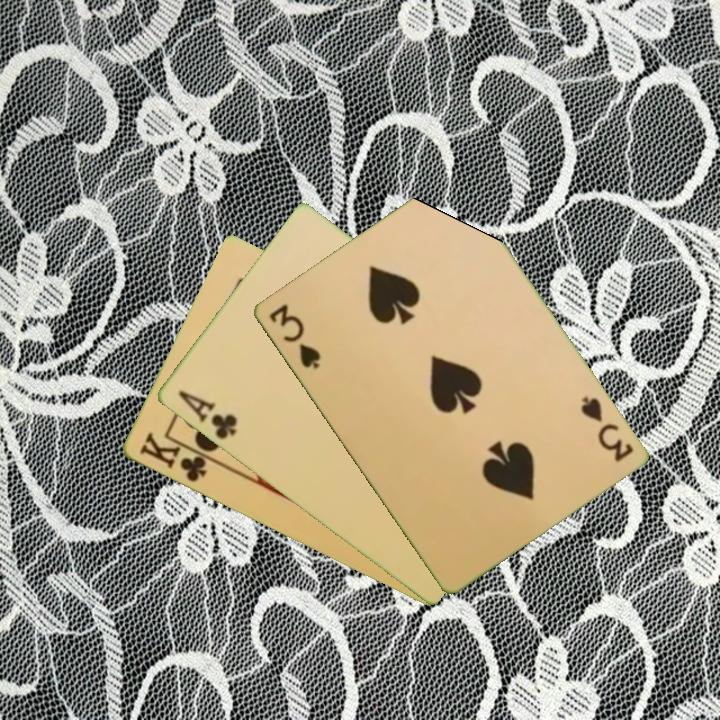3s: (576, 393, 636, 465), (264, 300, 323, 372)
Ac: (173, 387, 240, 443)
Kc: (135, 428, 218, 486)
